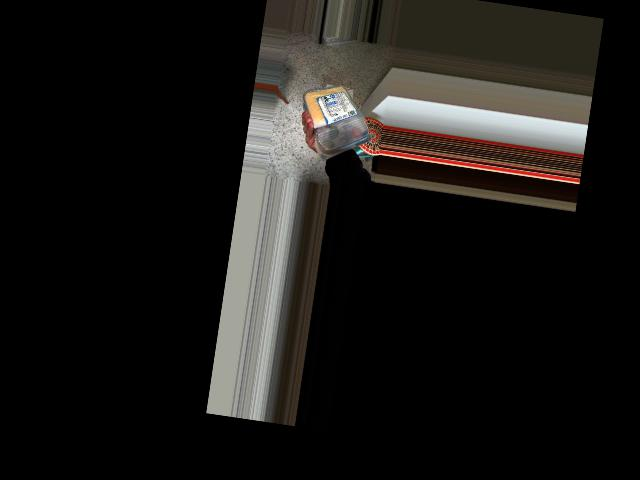cheese: (304, 74, 380, 157)
